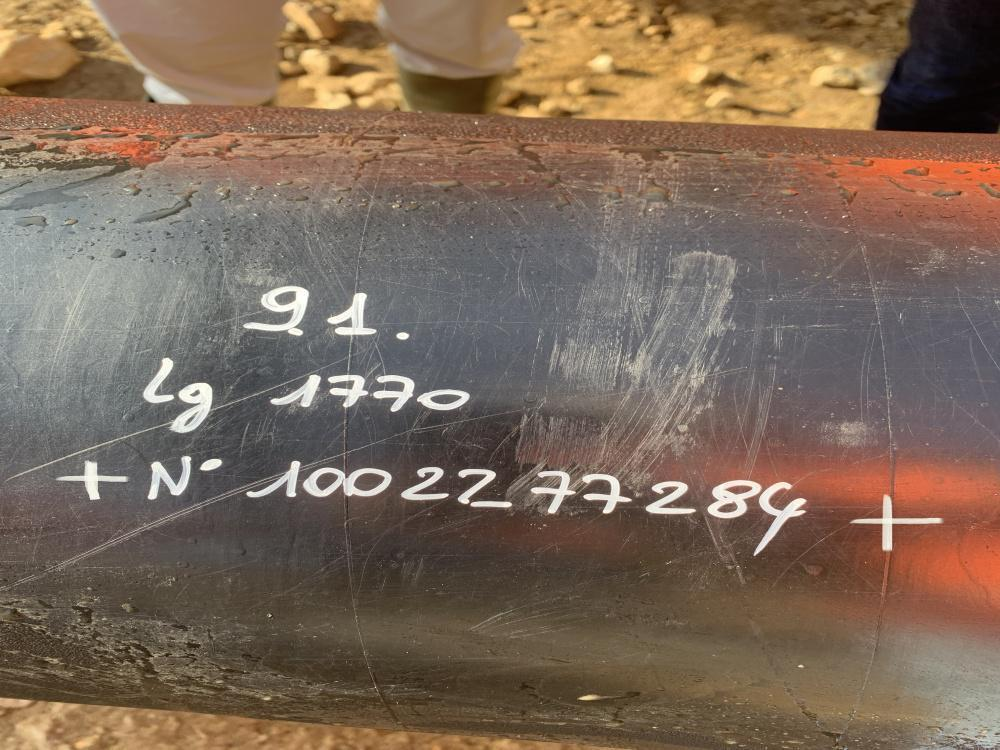+: (847, 493, 944, 551), (56, 458, 127, 501)
0: (348, 465, 391, 499), (416, 387, 472, 413), (304, 468, 342, 500)
1: (329, 292, 377, 340), (249, 460, 300, 502), (271, 374, 319, 408)
2: (457, 468, 512, 510), (647, 481, 697, 517), (401, 467, 448, 502)
4: (766, 477, 808, 552)
7: (582, 470, 632, 517), (532, 470, 574, 516), (326, 374, 368, 409), (376, 375, 414, 412)
8: (707, 480, 759, 520)
9: (248, 286, 309, 337)
N: (149, 455, 192, 503)
